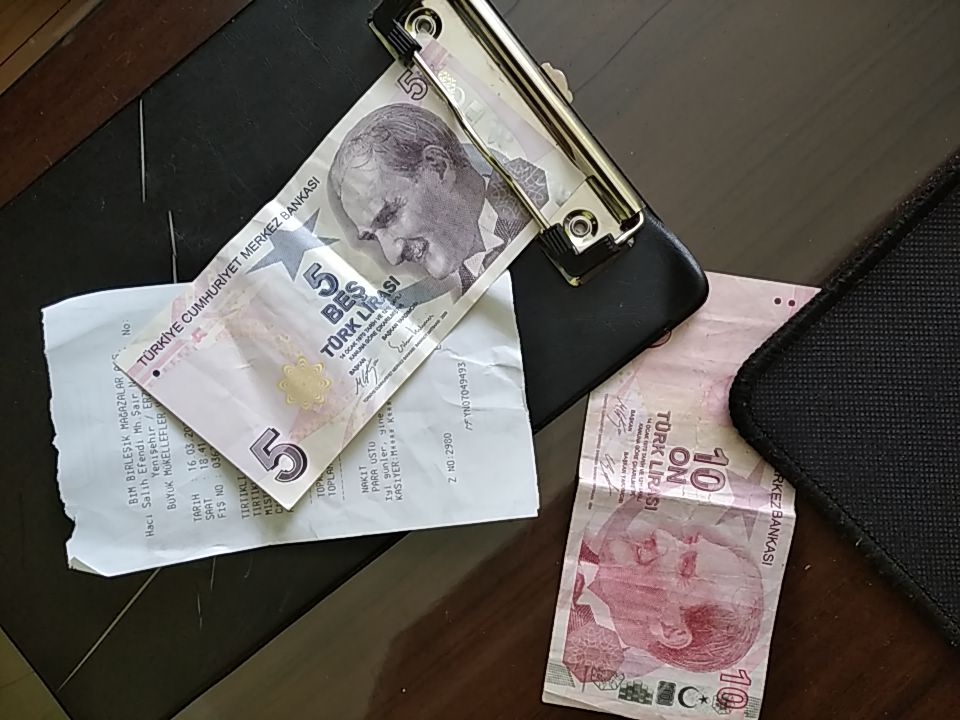5TL: (111, 25, 590, 512)
